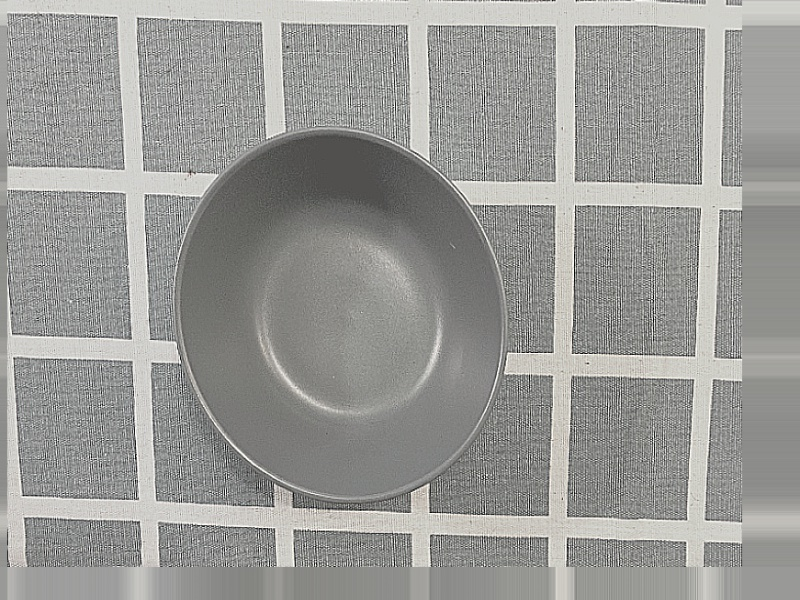bowl_big: (137, 115, 522, 521)
